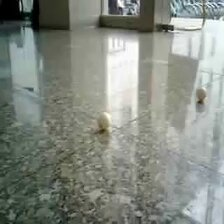w: (97, 112, 112, 130), (195, 85, 208, 101)
